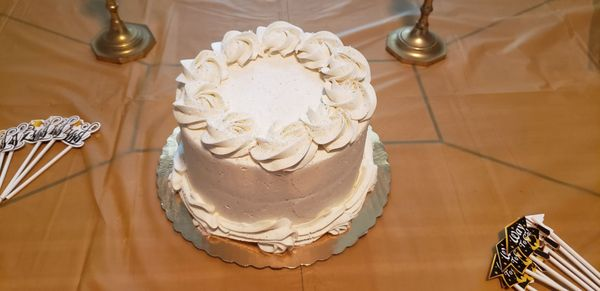burger: (0, 116, 102, 204), (487, 213, 600, 290)
